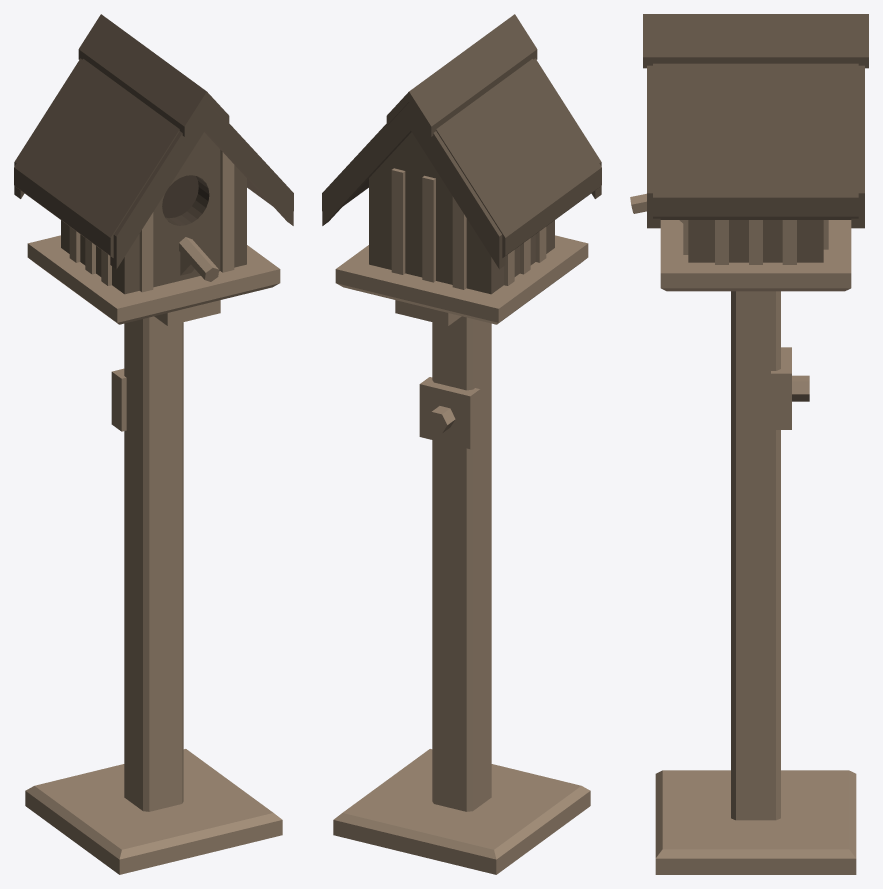
File: birdhouse-post-66d6c1.glb
The picture shows the model from 3 angles, left to right: view 1: azimuth 30°, elevation 25°; view 2: azimuth 150°, elevation 25°; view 3: azimuth 270°, elevation 25°; orthographic projection. The views are drawn at different scales.
Parts seen in each view (by area): view 1: nest-box-post; view 2: nest-box-post; view 3: nest-box-post.
Part boxes in pixels (x1,y1,x2,y2): nest-box-post: (14,14,293,874); nest-box-post: (322,14,601,874); nest-box-post: (630,14,868,874).
Size of the model in its own units: 0.45 by 1.8 by 0.4757.
